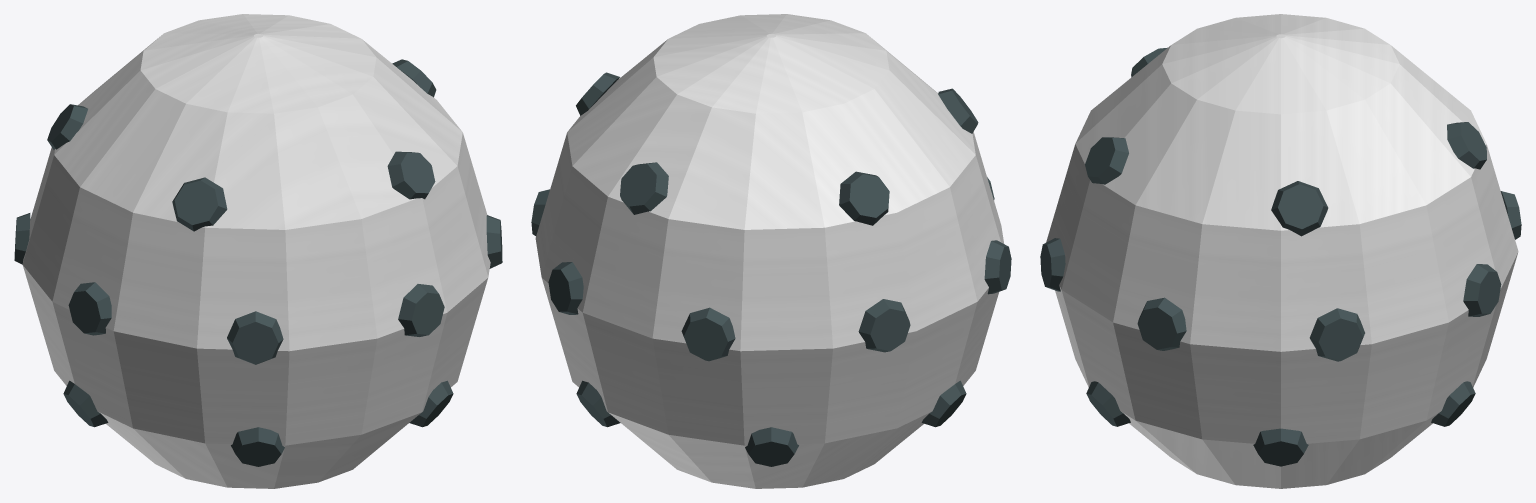
The model's file is lightball_rotor.obj.
The picture shows the model from 3 angles, left to right: view 1: azimuth 30°, elevation 25°; view 2: azimuth 150°, elevation 25°; view 3: azimuth 270°, elevation 25°; orthographic projection.
Parts seen in each view (by area): view 1: lightball_rotor; view 2: lightball_rotor; view 3: lightball_rotor.
Part boxes in pixels (left/top/right/bottom): lightball_rotor: left=14, top=14, right=502, bottom=488; lightball_rotor: left=531, top=14, right=1011, bottom=488; lightball_rotor: left=1040, top=14, right=1521, bottom=488.
Size of the model in its own units: 0.6482 by 0.64 by 0.6482.
